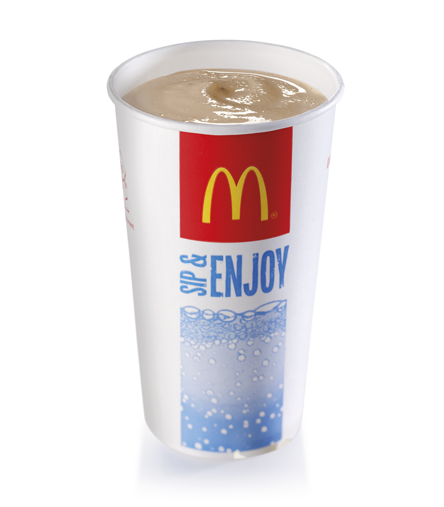mcdonalds: (197, 162, 273, 230)
